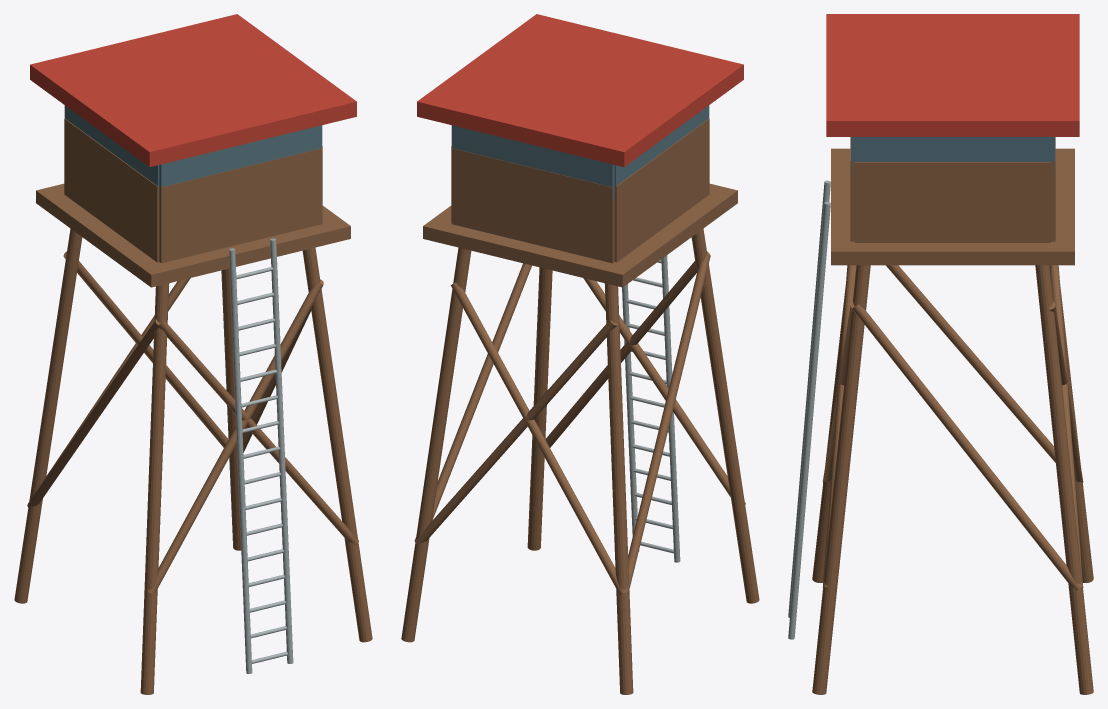
File: scendance-plan-fire-towers.glb
3 renders of one model, left to right at view 1: azimuth 30°, elevation 25°; view 2: azimuth 150°, elevation 25°; view 3: azimuth 270°, elevation 25°, orthographic. The views are drawn at different scales.
Size of the model in its own units: 3.03 by 6.77 by 3.29.
